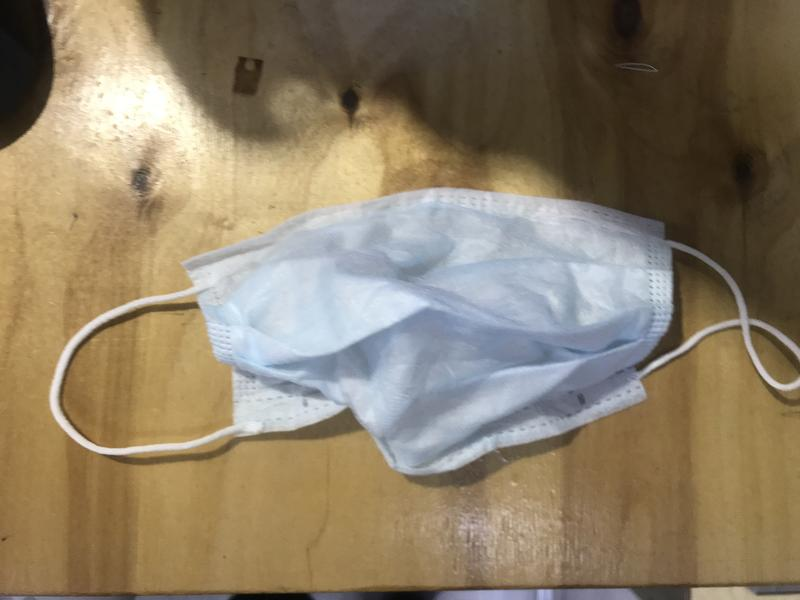medical_mask: (49, 188, 800, 477)
